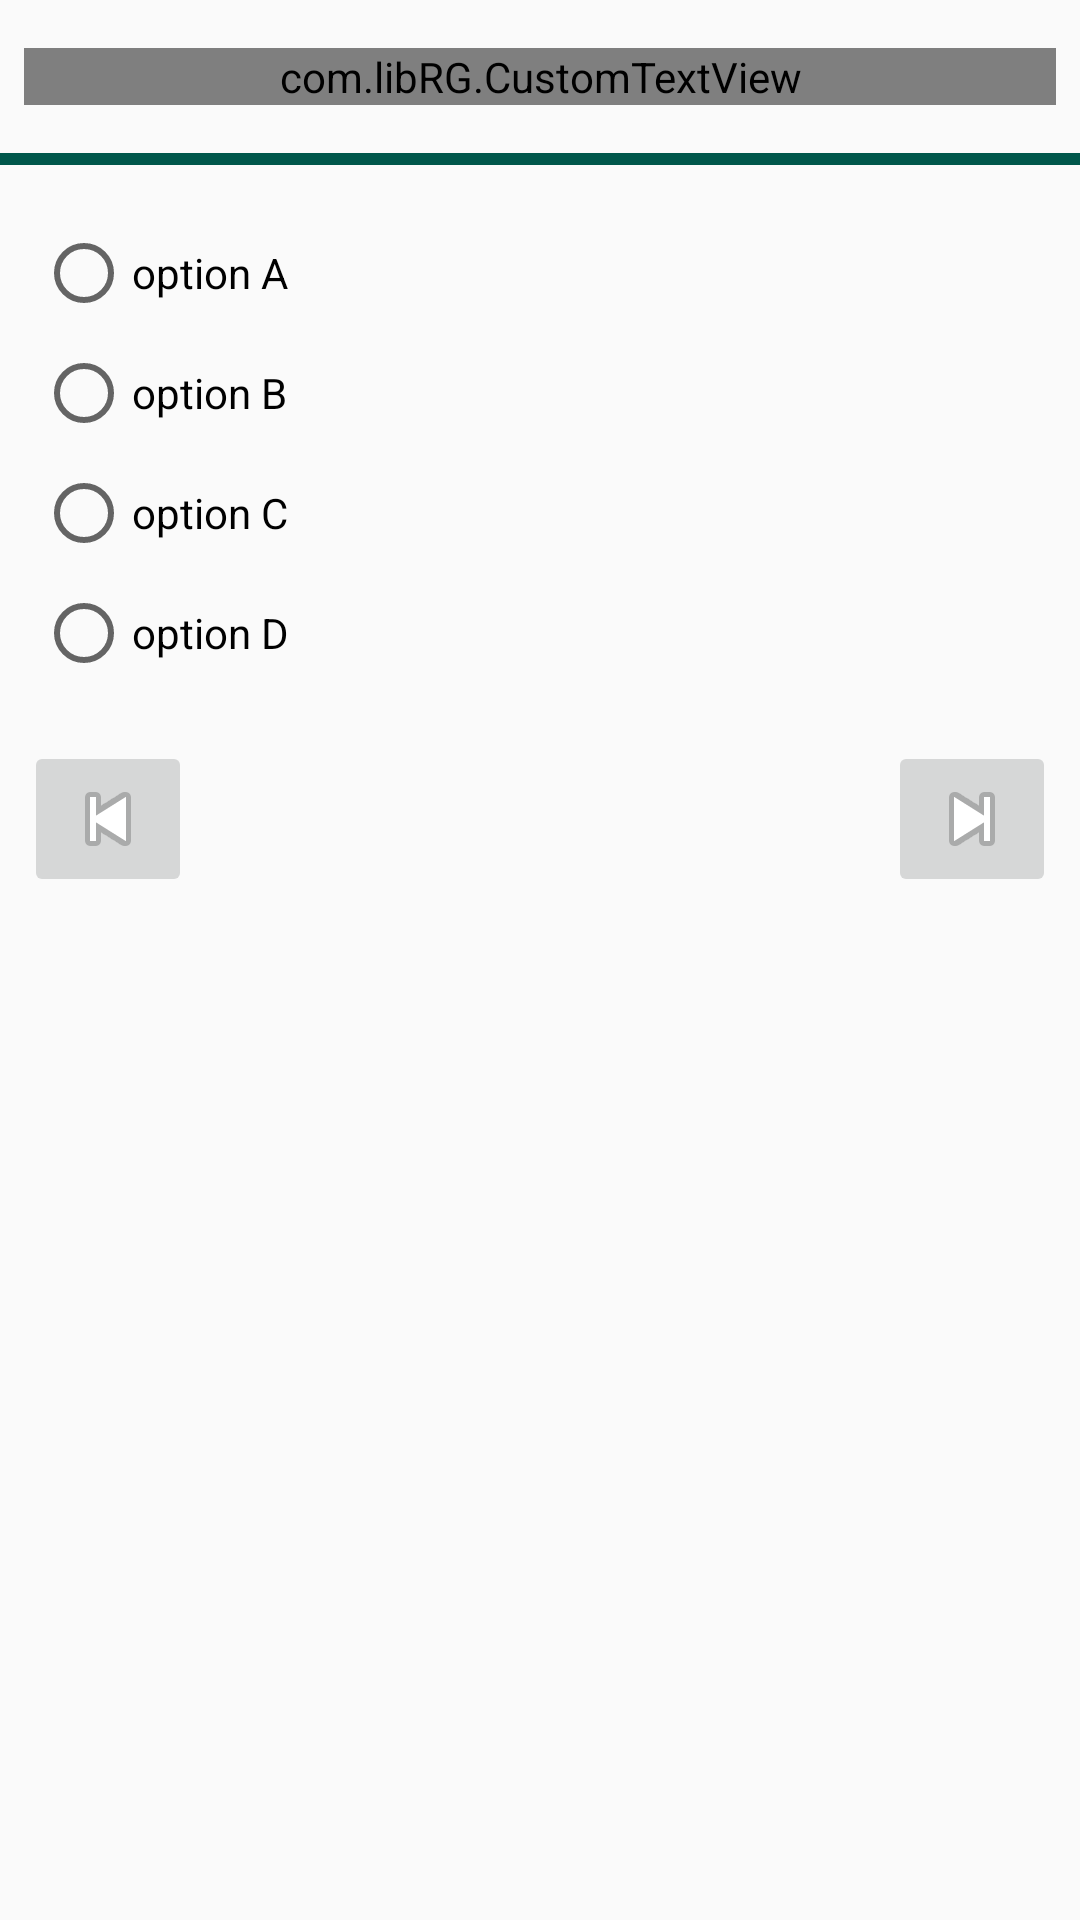

Locate icon controls on the screen. Image size 1080x1920, boxes as (x1,y1,x2,y2).
next: (900,759,1044,879)
previous: (36,759,180,879)
